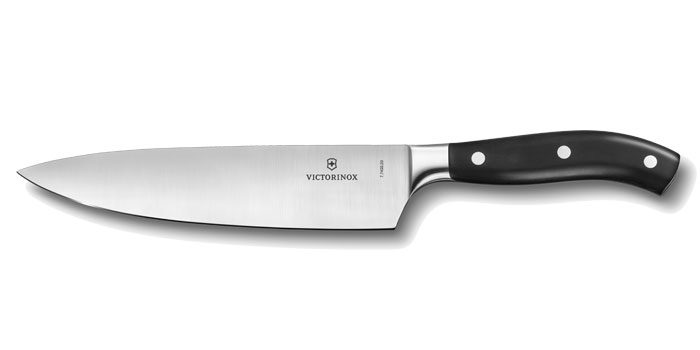knife: (15, 128, 683, 233)
